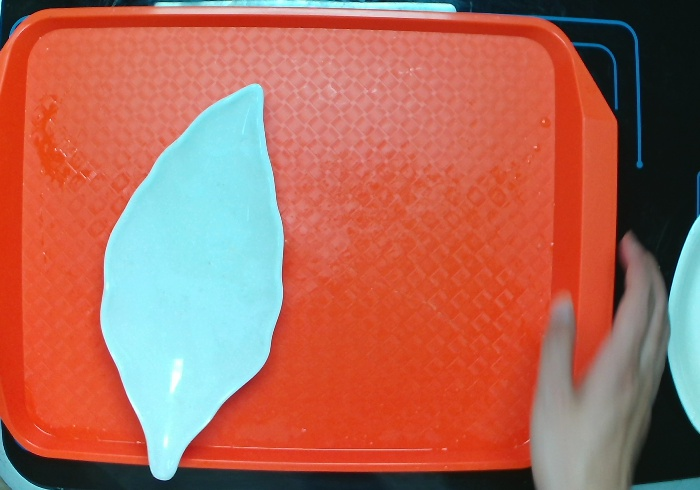RJxy-Shu_Ye_Pan: (96, 79, 293, 484)
